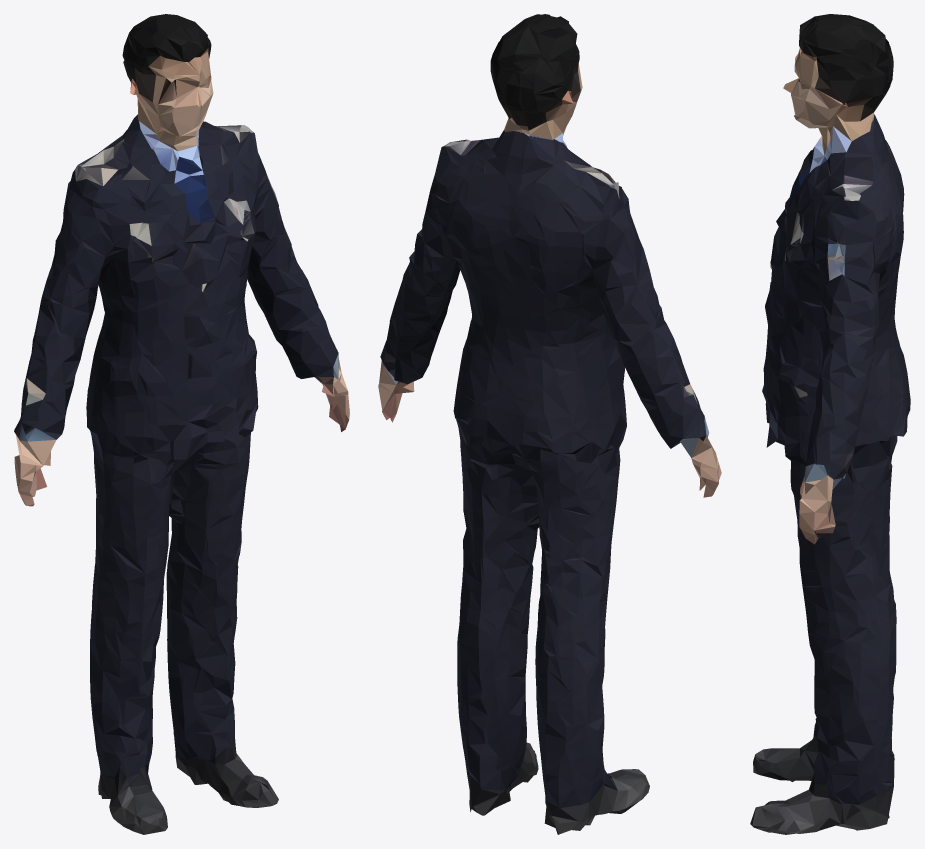
The model's file is judicial-police-optimized.obj.
3 renders of one model, left to right at view 1: azimuth 30°, elevation 25°; view 2: azimuth 150°, elevation 25°; view 3: azimuth 270°, elevation 25°, orthographic.
Parts seen in each view (by area): view 1: judicial_police_optimized; view 2: judicial_police_optimized; view 3: judicial_police_optimized.
Boxes of the visible parts, x1,y1,x2,y2 form: judicial_police_optimized: (14, 14, 349, 834); judicial_police_optimized: (378, 14, 721, 834); judicial_police_optimized: (750, 14, 910, 834).
Size of the model in its own units: 0.5239 by 1.17 by 0.2179.
Materials: 1 (1 with a texture image).
